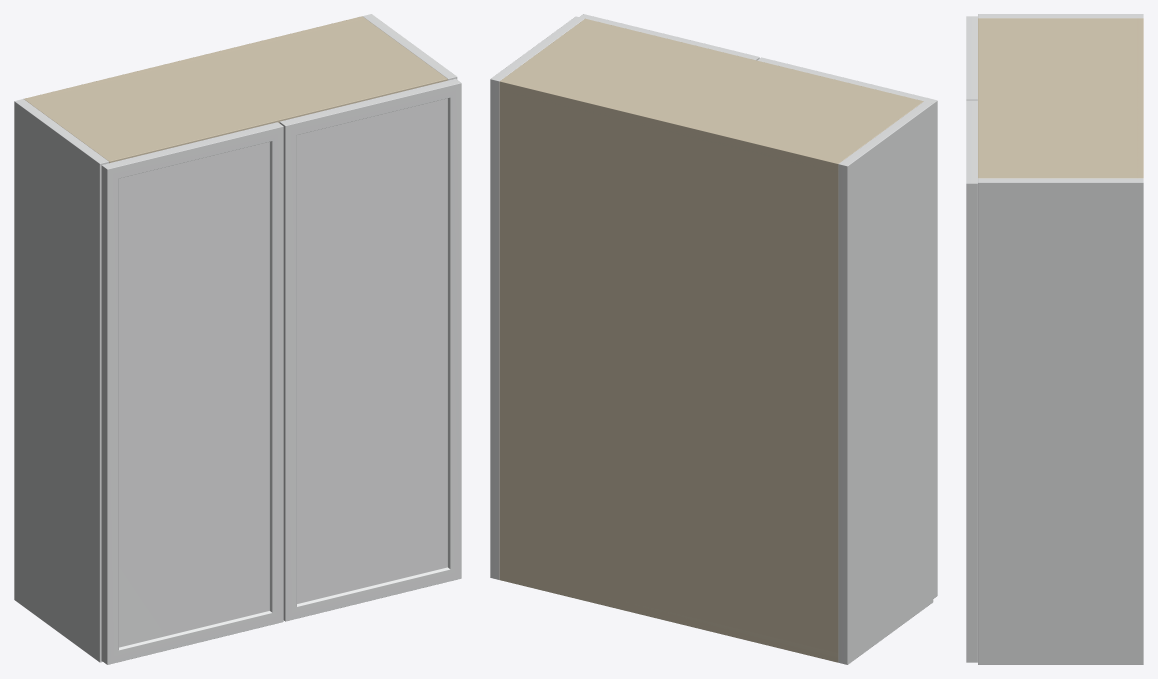
Rendered from oppein-ply-ssw-w2736.glb.
3 views of the same model, side by side, from view 1: azimuth 30°, elevation 25°; view 2: azimuth 150°, elevation 25°; view 3: azimuth 270°, elevation 25° (orthographic). The views are drawn at different scales.
Visible parts, largest first — view 1: Door, Door.001, Cabinet side, Cabinet top, Cabinet back, Cabinet side.001; view 2: Cabinet back, Cabinet side, Cabinet top, Cabinet side.001, Door, Cabinet bottom, Door.001; view 3: Cabinet side.001, Cabinet top, Door.001, Cabinet back, Door, Cabinet side.
Part boxes in pixels (x1,y1,x2,y2): Door: [101, 122, 283, 664]; Door.001: [279, 78, 461, 621]; Cabinet side: [14, 99, 108, 662]; Cabinet top: [25, 17, 447, 163]; Cabinet back: [24, 16, 364, 100]; Cabinet side.001: [362, 14, 457, 80]; Cabinet back: [499, 79, 840, 662]; Cabinet side: [838, 101, 933, 664]; Cabinet top: [499, 18, 923, 171]; Cabinet side.001: [490, 16, 584, 579]; Door: [757, 57, 937, 598]; Cabinet bottom: [501, 574, 838, 660]; Door.001: [579, 14, 759, 60]; Cabinet side.001: [978, 178, 1143, 664]; Cabinet top: [978, 18, 1143, 178]; Door.001: [966, 100, 977, 662]; Cabinet back: [1137, 18, 1143, 178]; Door: [966, 16, 977, 100]; Cabinet side: [978, 14, 1143, 18].
Size of the model in its own units: 0.6858 by 0.9144 by 0.3048.
